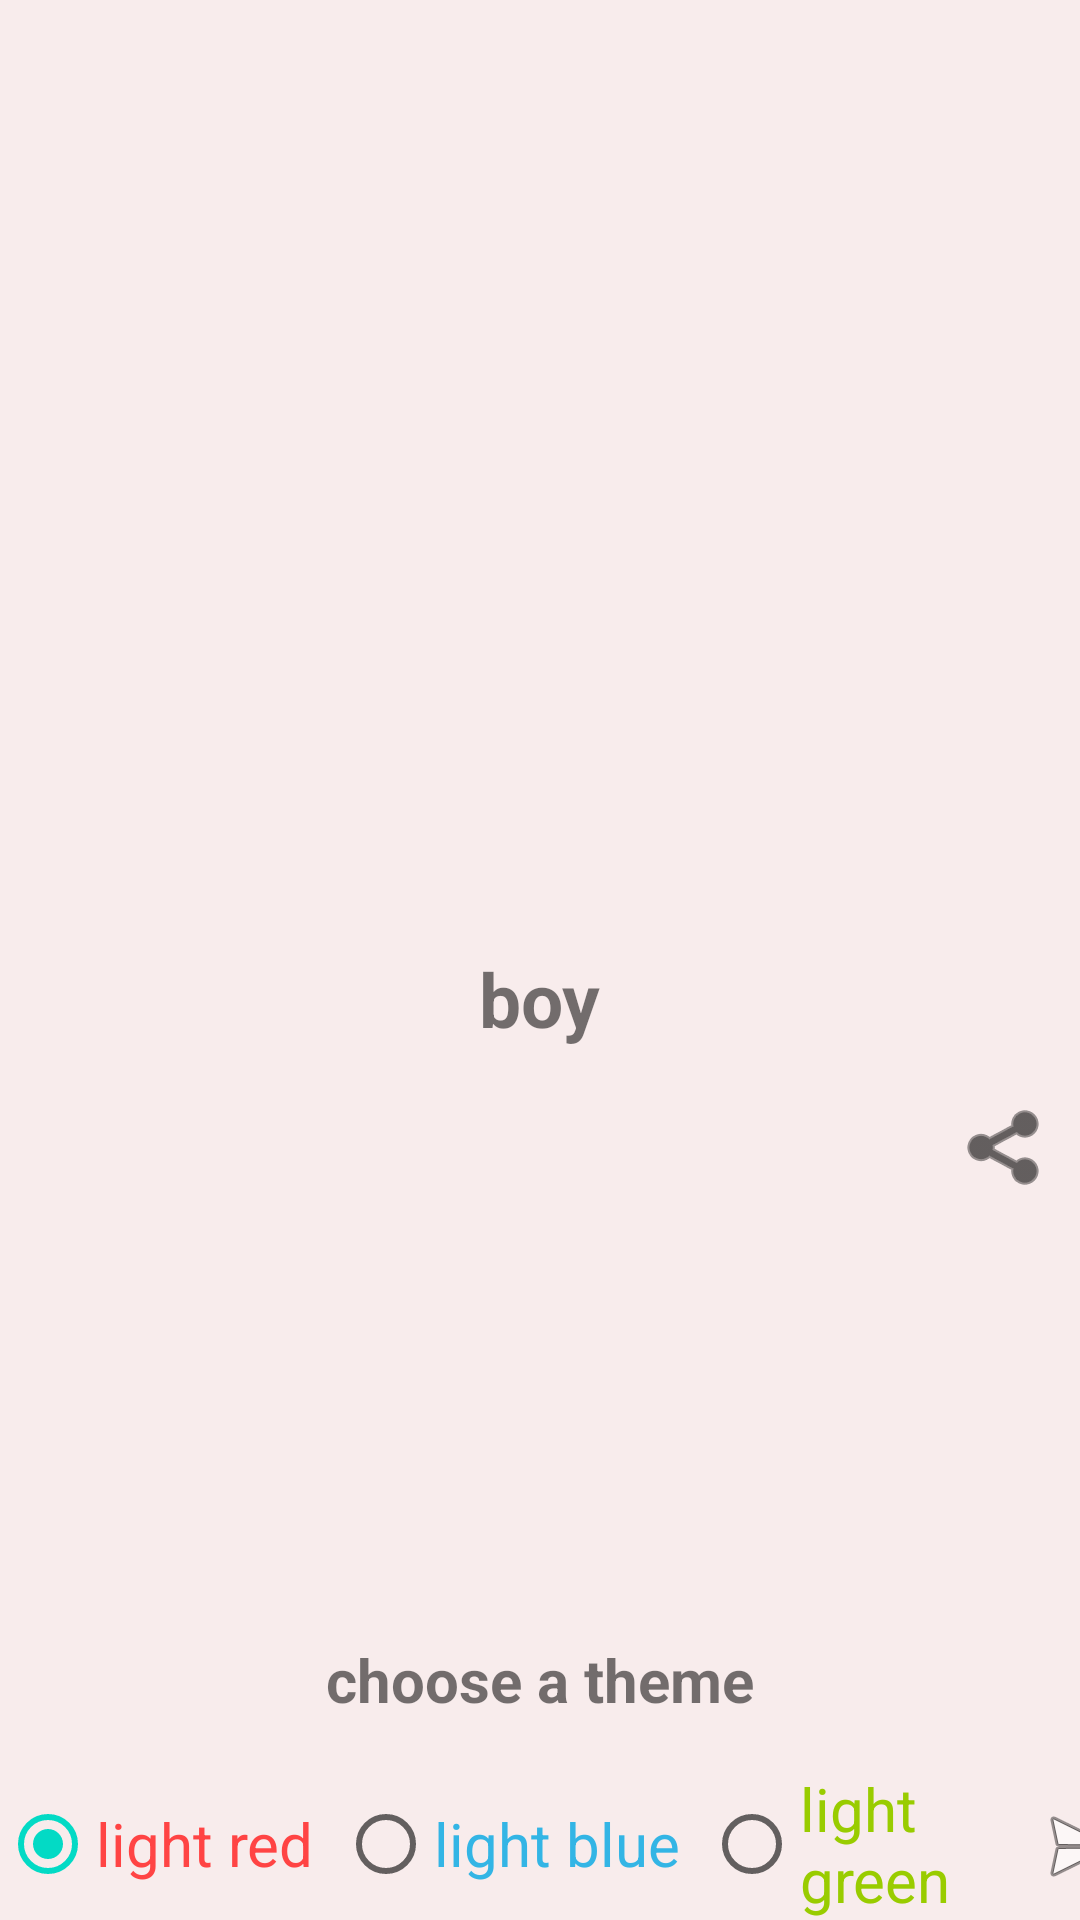

Named icons in this screenshot (1080px×1920px) and their centers, (x=x, y=y):
Share: (x=1003, y=1147)
